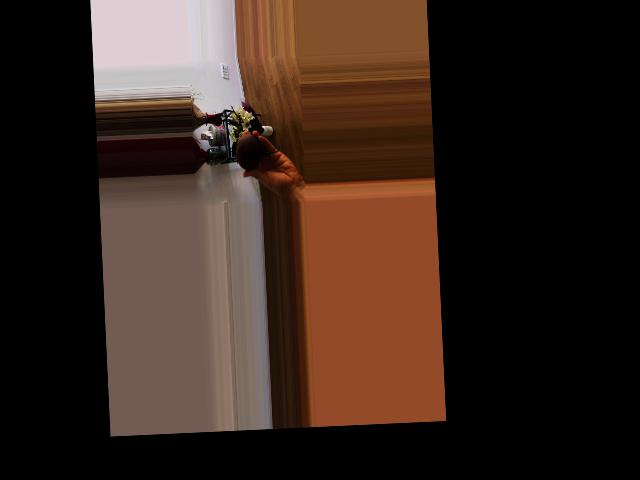beet: (231, 132, 281, 170)
